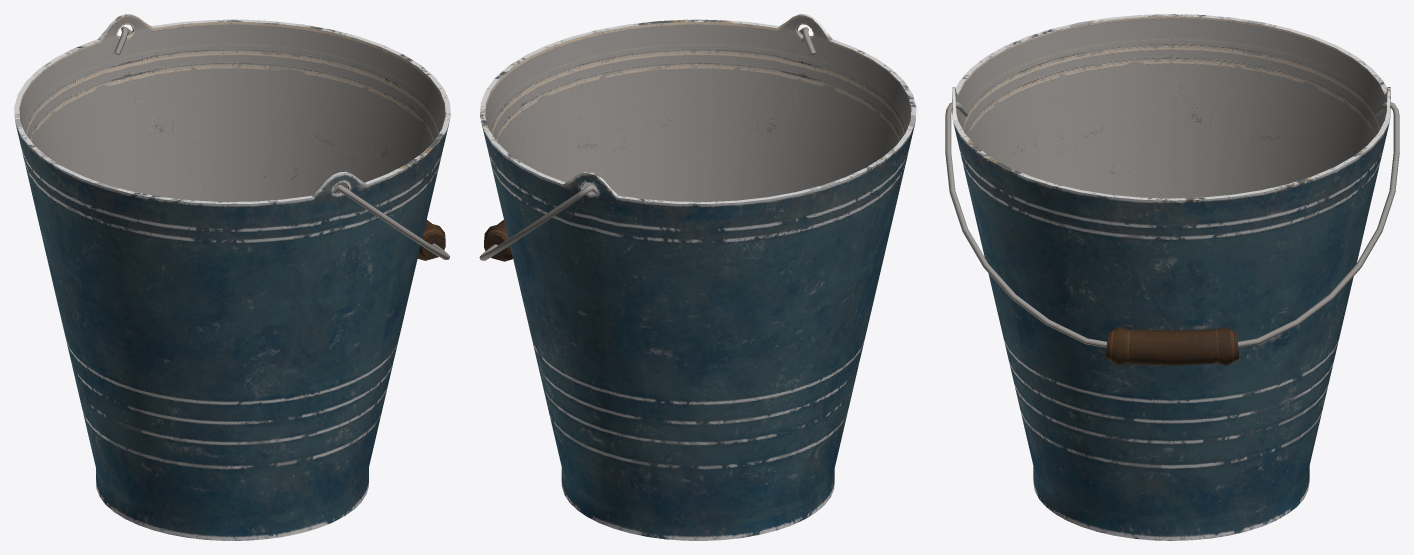
File: obj_metal_bucket_ca65bb.glb
3 renders of one model, left to right at view 1: azimuth 30°, elevation 25°; view 2: azimuth 150°, elevation 25°; view 3: azimuth 270°, elevation 25°, orthographic.
Visible parts, largest first — view 1: obj_metal_bucket_ca65bb; view 2: obj_metal_bucket_ca65bb; view 3: obj_metal_bucket_ca65bb.
Part boxes in pixels (x1,y1,x2,y2): obj_metal_bucket_ca65bb: (14, 14, 450, 540); obj_metal_bucket_ca65bb: (479, 14, 916, 540); obj_metal_bucket_ca65bb: (945, 14, 1399, 540).
Bounding box in the file's own units: 0.3052 × 0.3 × 0.3141.
1 material, 1 textured.
